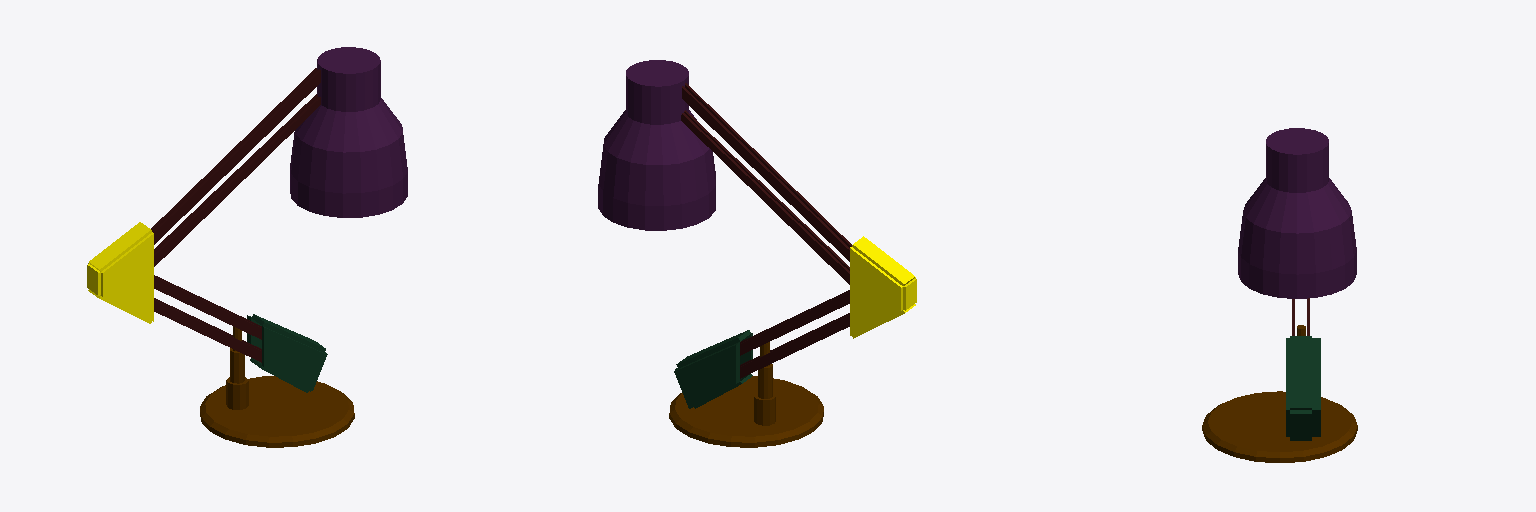
Rendered from Lamp.obj.
3 renders of one model, left to right at view 1: azimuth 30°, elevation 25°; view 2: azimuth 150°, elevation 25°; view 3: azimuth 270°, elevation 25°, orthographic.
Parts seen in each view (by area): view 1: pCylinder3, Base, Elbow, End, Arm_06, Arm_05, Arm_02, Arm_01, Attatchment, Arm_08, Arm_07; view 2: pCylinder3, Base, Elbow, End, Arm_08, Arm_07, Arm_03, Arm_04, Attatchment, Arm_06, Arm_05; view 3: pCylinder3, Base, End.
Part boxes in pixels (x1,y1,x2,y2): pCylinder3: (290, 47, 407, 217); Base: (200, 376, 354, 447); Elbow: (87, 222, 153, 323); End: (247, 314, 327, 392); Arm_06: (153, 69, 320, 244); Arm_05: (154, 97, 320, 266); Arm_02: (154, 277, 261, 339); Arm_01: (154, 300, 261, 362); Attatchment: (226, 326, 248, 409); Arm_08: (151, 68, 317, 231); Arm_07: (154, 94, 317, 253); pCylinder3: (598, 60, 715, 230); Base: (669, 376, 823, 447); Elbow: (850, 236, 916, 338); End: (674, 330, 752, 408); Arm_08: (682, 86, 849, 261); Arm_07: (681, 113, 849, 284); Arm_03: (740, 315, 849, 378); Arm_04: (740, 292, 849, 355); Attatchment: (754, 342, 775, 425); Arm_06: (685, 83, 851, 247); Arm_05: (684, 110, 849, 270); pCylinder3: (1238, 128, 1356, 298); Base: (1202, 391, 1357, 462); End: (1286, 336, 1320, 440).
Size of the model in its own units: 139 by 142 by 60.96.